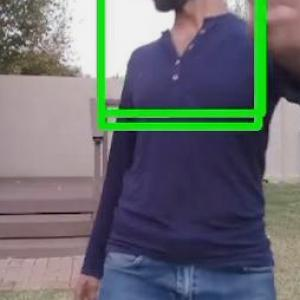takeoff-hand: (231, 0, 300, 65)
